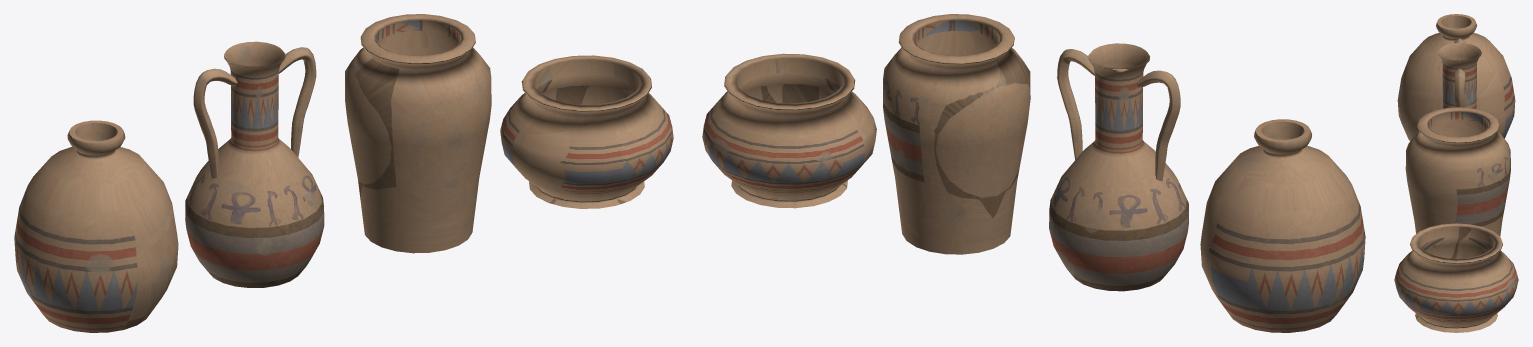
The model's file is Pottery.fbx.
The picture shows the model from 3 angles, left to right: view 1: azimuth 30°, elevation 25°; view 2: azimuth 150°, elevation 25°; view 3: azimuth 270°, elevation 25°; orthographic projection. The views are drawn at different scales.
Parts seen in each view (by area): view 1: defaultMaterial.003, defaultMaterial.001, defaultMaterial.005, defaultMaterial.002, defaultMaterial, defaultMaterial.004; view 2: defaultMaterial.003, defaultMaterial.001, defaultMaterial.005, defaultMaterial.002, defaultMaterial, defaultMaterial.004; view 3: defaultMaterial.003, defaultMaterial.002, defaultMaterial.001, defaultMaterial.005, defaultMaterial.004.
Part boxes in pixels (left/top/right/bottom): defaultMaterial.003: left=345, top=14, right=491, bottom=253; defaultMaterial.001: left=14, top=120, right=178, bottom=332; defaultMaterial.005: left=185, top=41, right=324, bottom=287; defaultMaterial.002: left=500, top=55, right=673, bottom=208; defaultMaterial: left=193, top=68, right=237, bottom=178; defaultMaterial.004: left=278, top=47, right=316, bottom=157; defaultMaterial.003: left=883, top=14, right=1030, bottom=254; defaultMaterial.001: left=1200, top=119, right=1365, bottom=332; defaultMaterial.005: left=1049, top=43, right=1188, bottom=291; defaultMaterial.002: left=702, top=53, right=876, bottom=208; defaultMaterial: left=1137, top=70, right=1180, bottom=180; defaultMaterial.004: left=1057, top=49, right=1094, bottom=159; defaultMaterial.003: left=1405, top=107, right=1510, bottom=236; defaultMaterial.002: left=1394, top=223, right=1518, bottom=332; defaultMaterial.001: left=1397, top=14, right=1515, bottom=140; defaultMaterial.005: left=1437, top=43, right=1481, bottom=109; defaultMaterial.004: left=1454, top=68, right=1465, bottom=107.
Bounding box in the file's own units: 416 × 134 × 98.52.
Materials: 4 (4 with a texture image).
